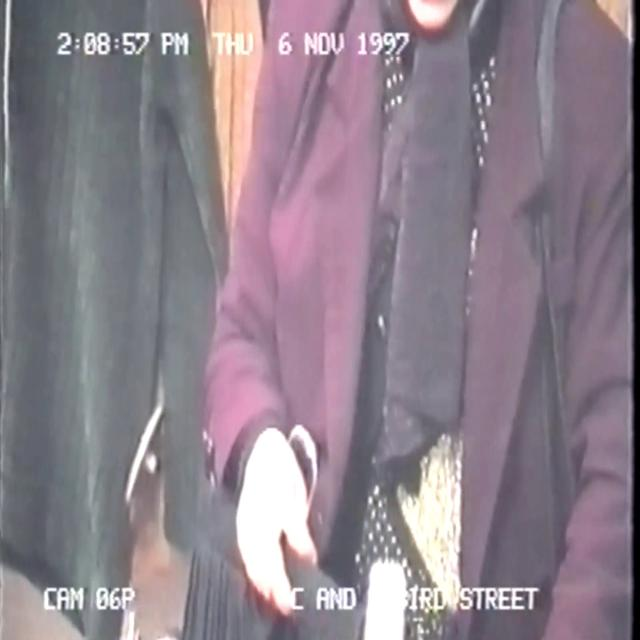Product: (177, 472, 383, 640)
shoplifting: (178, 0, 636, 640)
